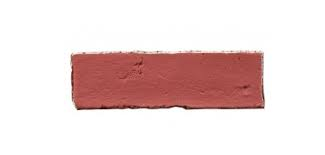brick: (71, 52, 265, 109)
